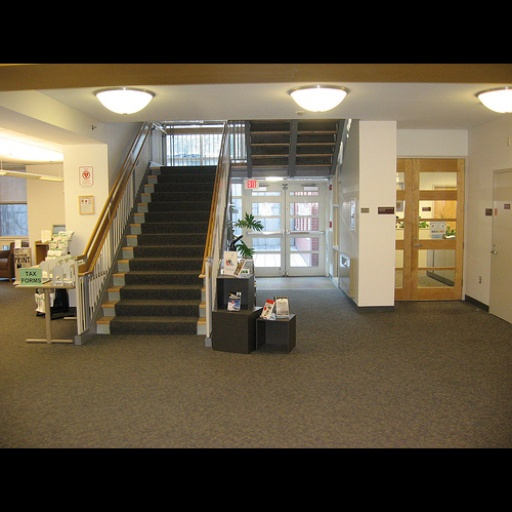Stairs: (109, 166, 214, 334)
